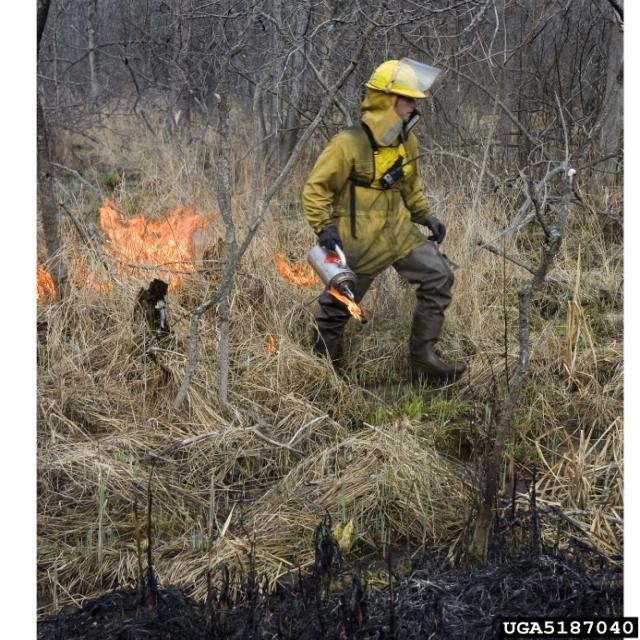Fire: (37, 194, 221, 302), (274, 252, 362, 324)
